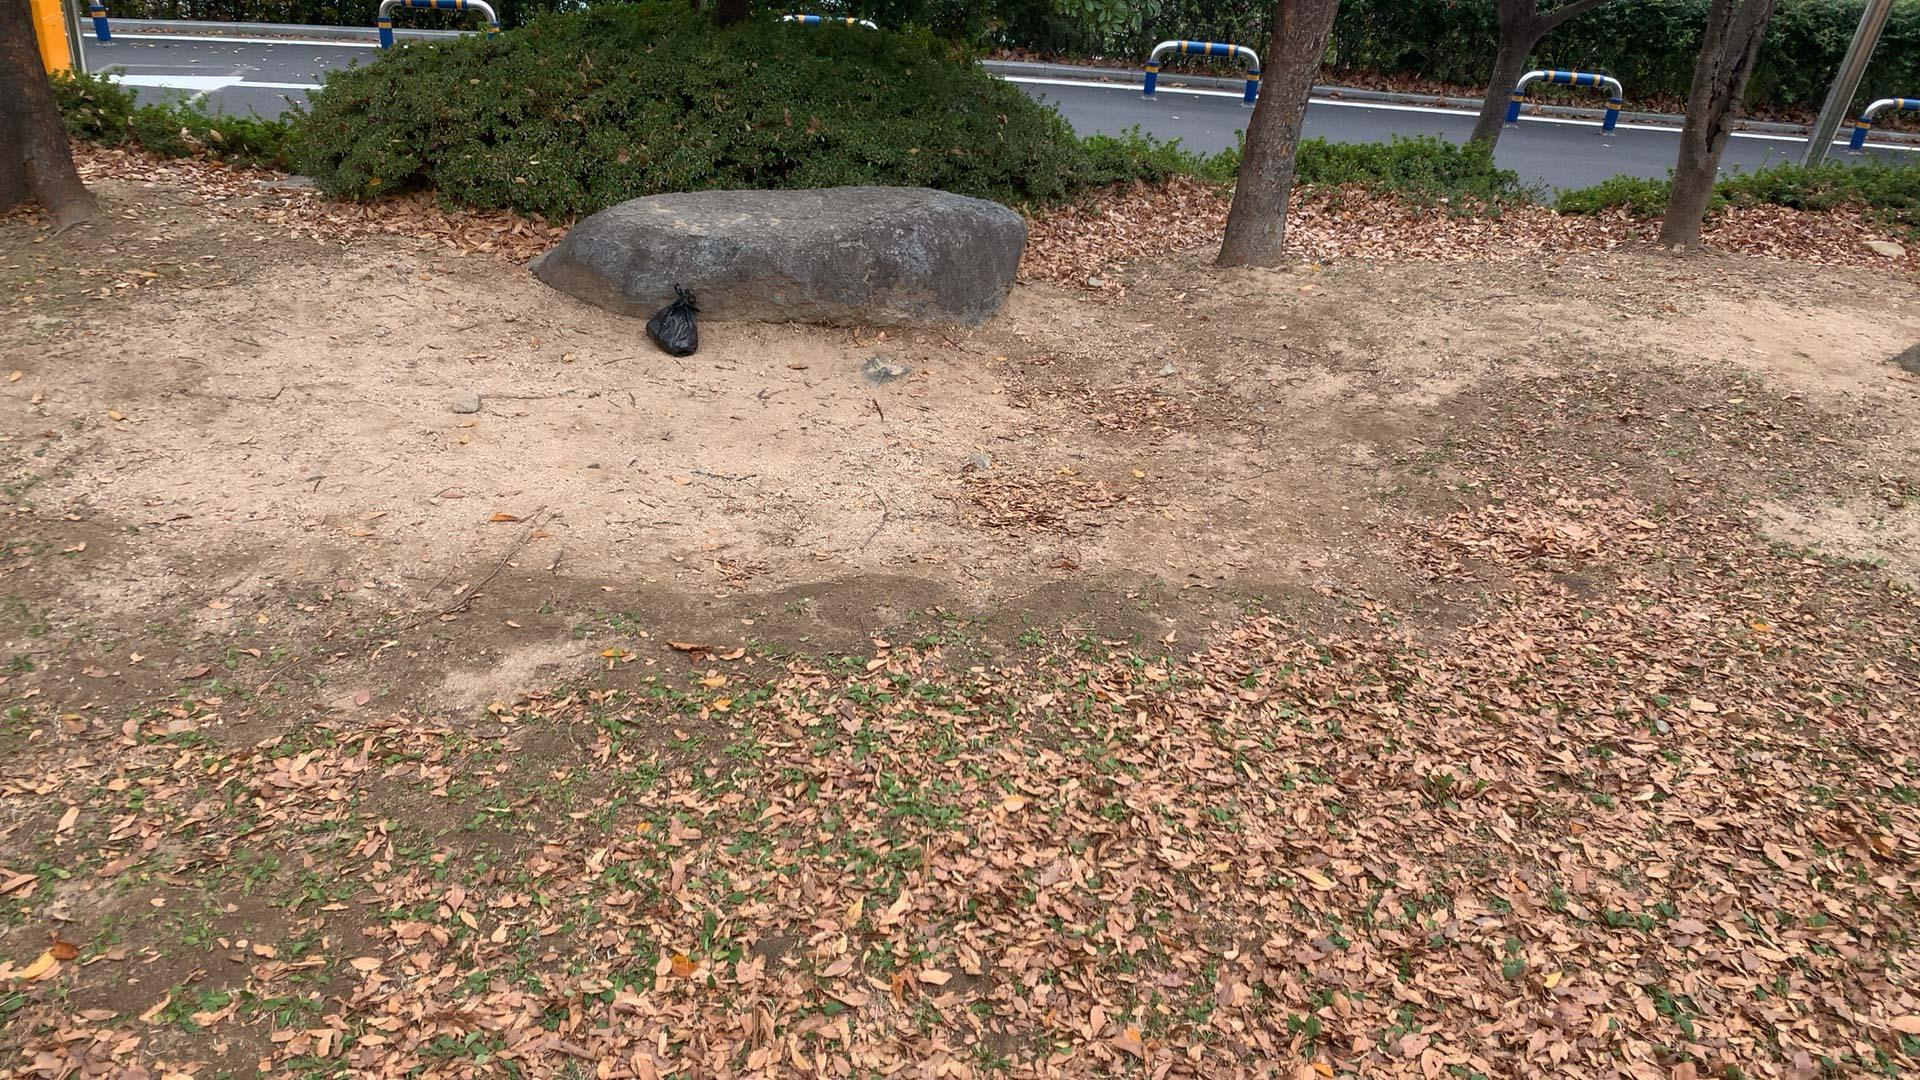black_bag: (636, 280, 705, 357)
